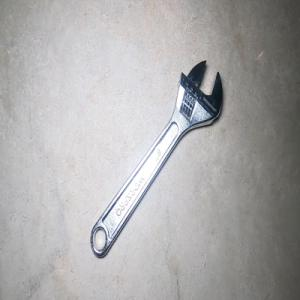Wrench: (90, 59, 222, 257)
